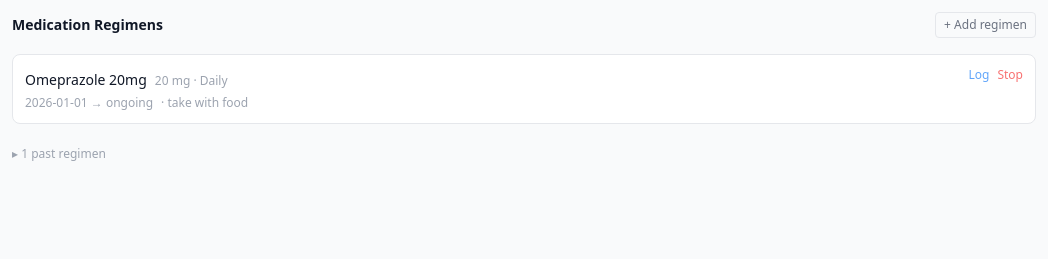
Test: Medications — past regimens toggle › reveals past regimen on toggle click
The width and height of the screenshot is (1048, 259).
Click the button "▸ 1 past regimen". click: (59, 154)
box: [12,146,106,162]
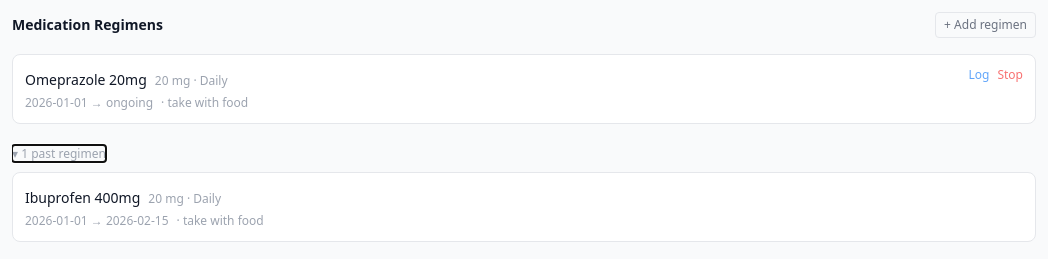
expect the text "Ibuprofen 400mg" is shown: met, box [25,188,140,207]
